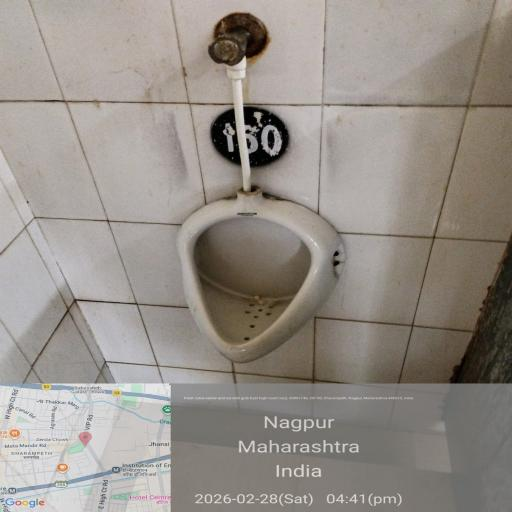clean_floor: (0, 226, 191, 386), (349, 217, 471, 375)
partial_dirty_floor: (268, 6, 507, 206), (0, 0, 218, 203), (479, 284, 512, 382)
partial_dirty_urinal: (182, 211, 322, 359)
